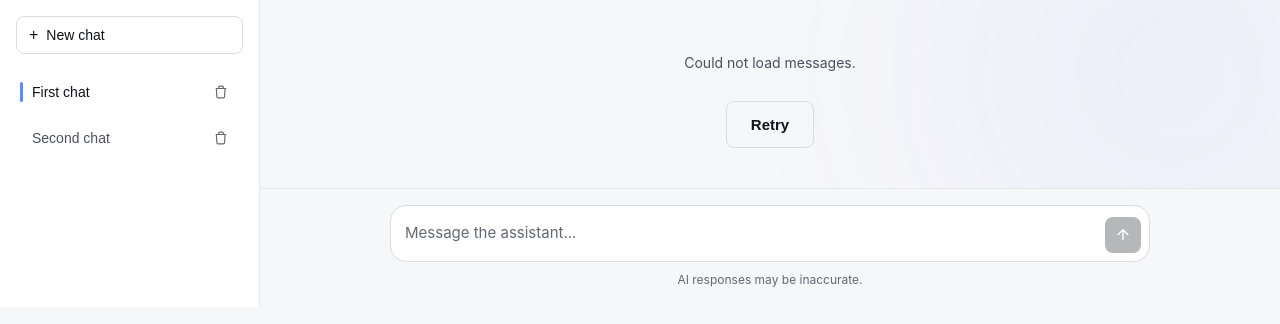
Test: Assistant — messages query › shows an error with a Retry button when the messages fetch fails
Check: the text "Could not load messages." is shown, box [684,54,856,71]
Step 1. Click the button "Retry" → (770, 124), box [726,101,814,148]
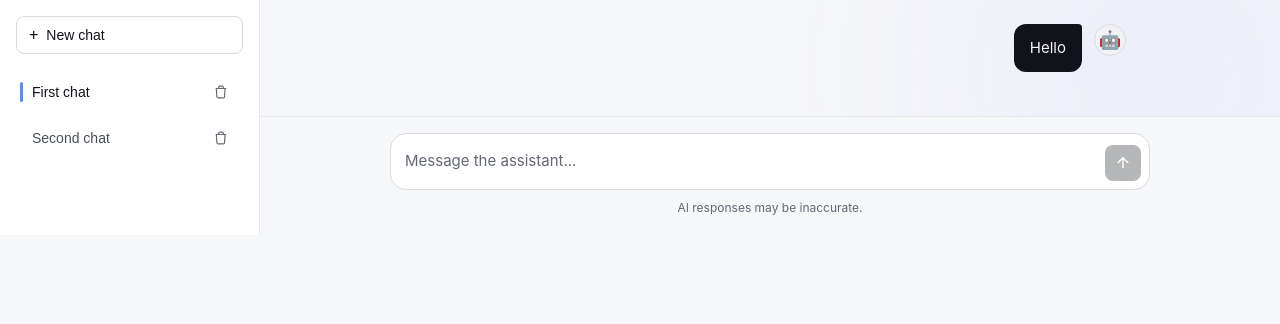
Check: the text "Hello" is shown, box [1014,24,1082,72]
